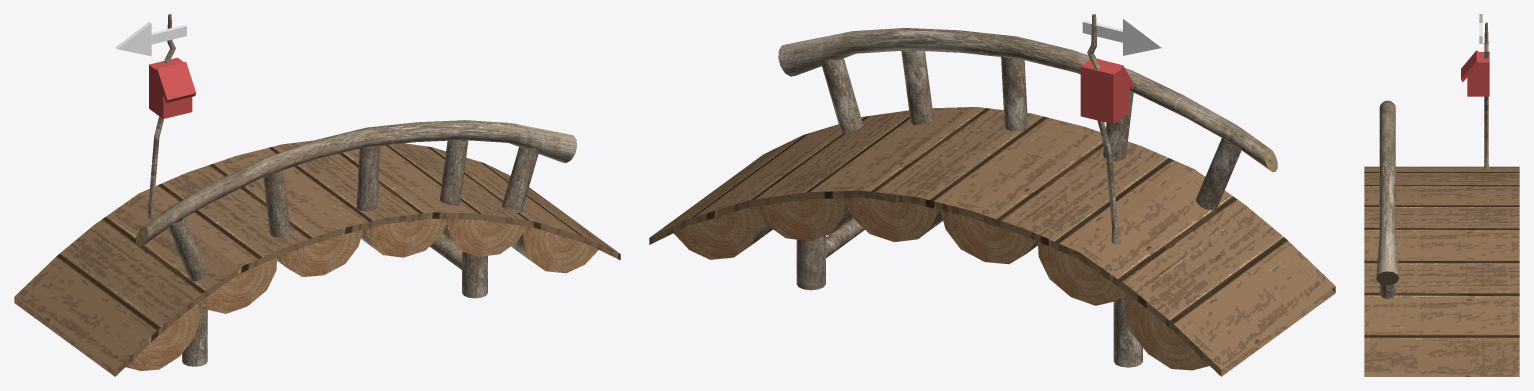
The model's file is moominBRODone.FBX.
The picture shows the model from 3 angles, left to right: view 1: azimuth 30°, elevation 25°; view 2: azimuth 150°, elevation 25°; view 3: azimuth 270°, elevation 25°; orthographic projection. The views are drawn at different scales.
Parts seen in each view (by area): view 1: Box001; view 2: Box001; view 3: Box001.
Boxes of the visible parts, x1=… form: Box001: x1=14, y1=14, x2=620, y2=376; Box001: x1=649, y1=14, x2=1335, y2=376; Box001: x1=1364, y1=14, x2=1519, y2=376.
Bounding box in the file's own units: 527 × 289 × 182.
Materials: 1 (1 with a texture image).
